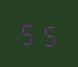five: (38, 19, 56, 48), (19, 18, 37, 46)
